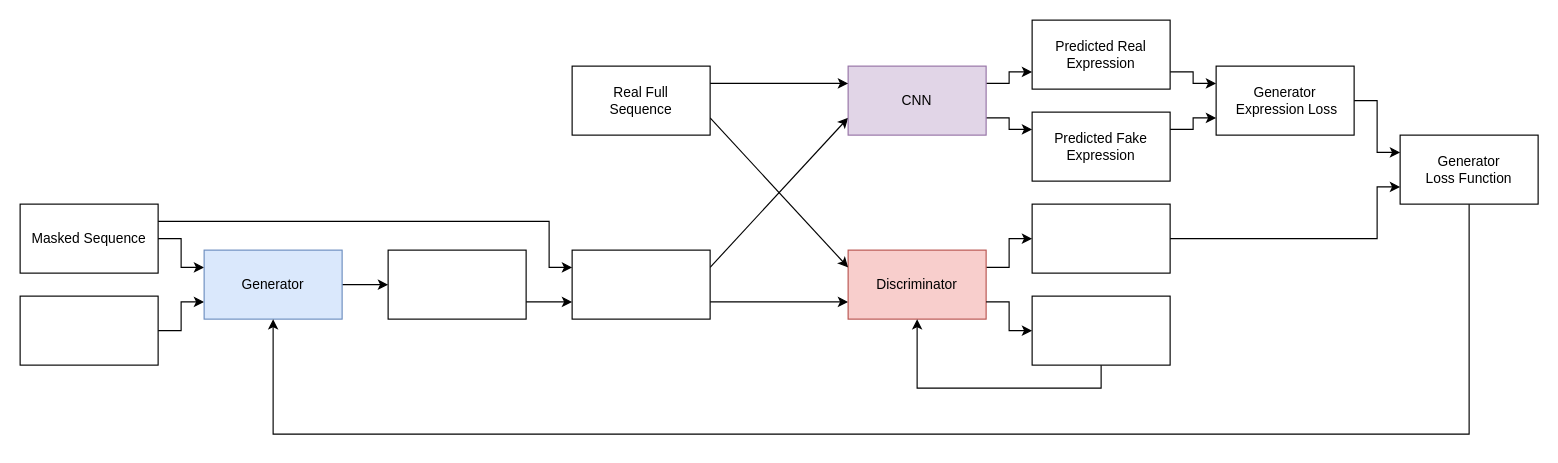
This 1558x463 diagram has some shape labels left out. The shapes that lost their labels are listed below. From the top down, each one's box as (x1, y1, x2, y2) in pixels, then its label:
(1031, 203, 1170, 273): Generator Adversarial Loss
(387, 249, 526, 319): Fake Missing Sequence
(571, 249, 710, 319): Fake Full Sequence
(19, 295, 158, 365): Real Expression
(1031, 295, 1170, 365): Discriminator Loss
